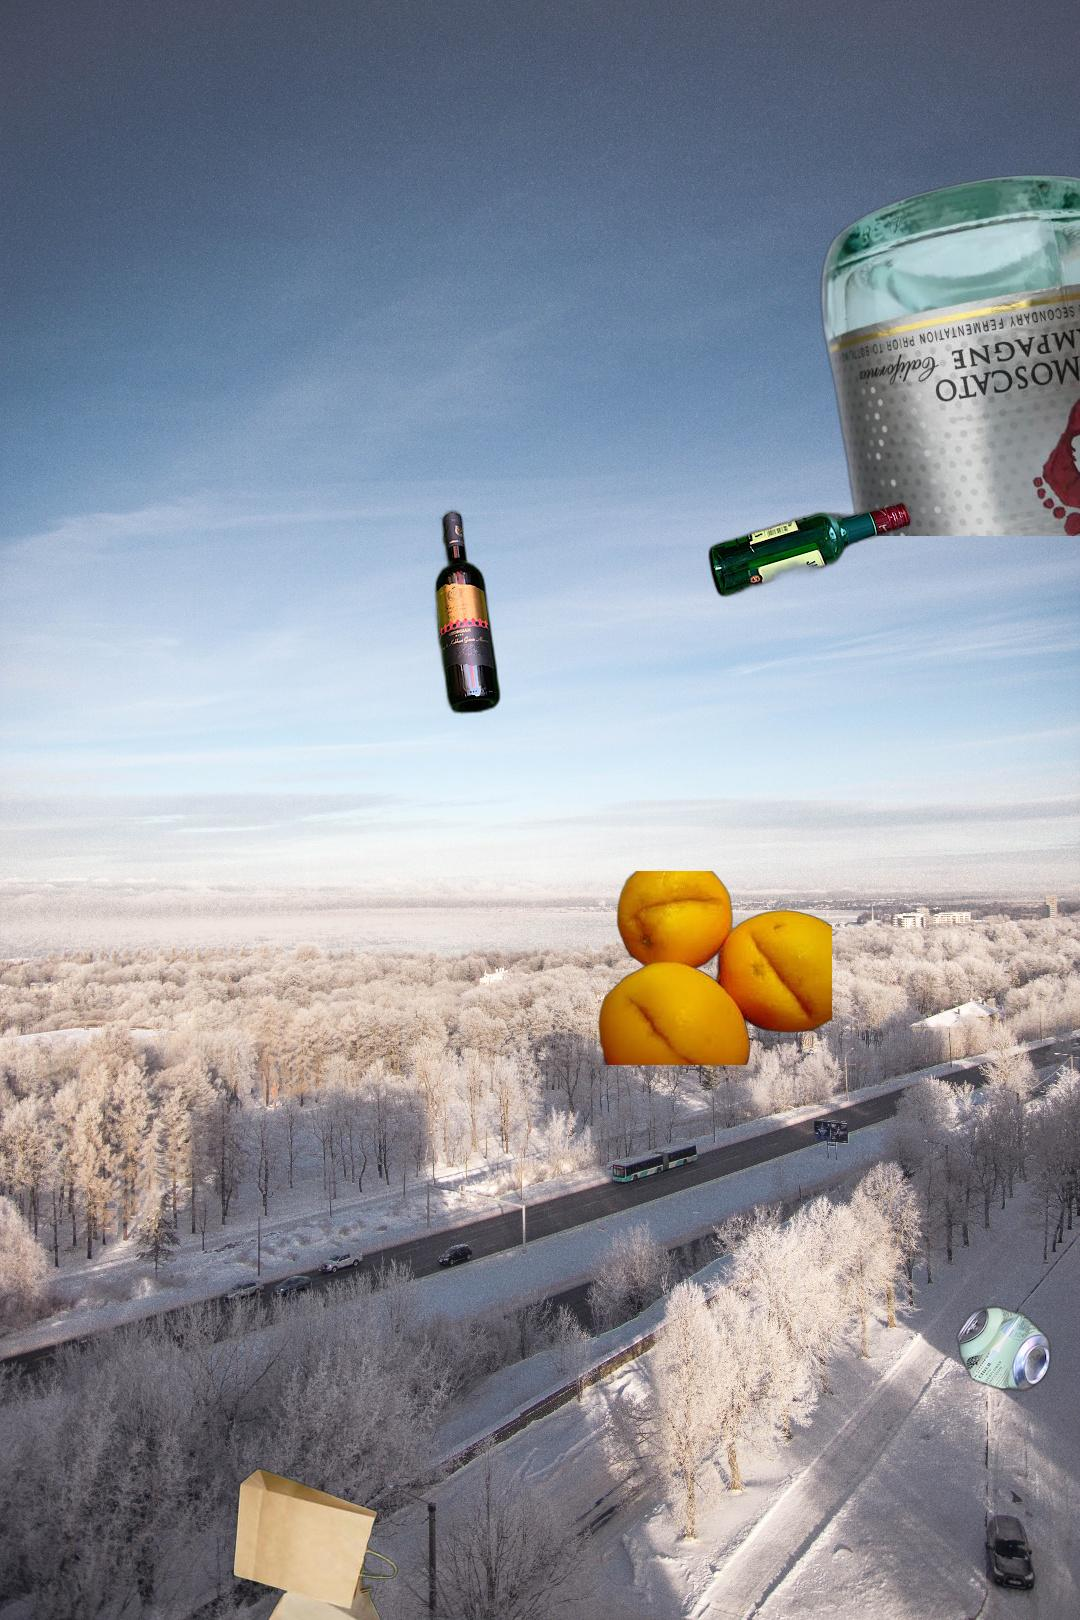biological: (597, 871, 832, 1066)
glass: (704, 88, 915, 603), (817, 171, 1080, 536), (432, 505, 505, 720)
metal-cans: (726, 979, 1080, 1396)
paper-bag: (231, 1467, 407, 1620)
